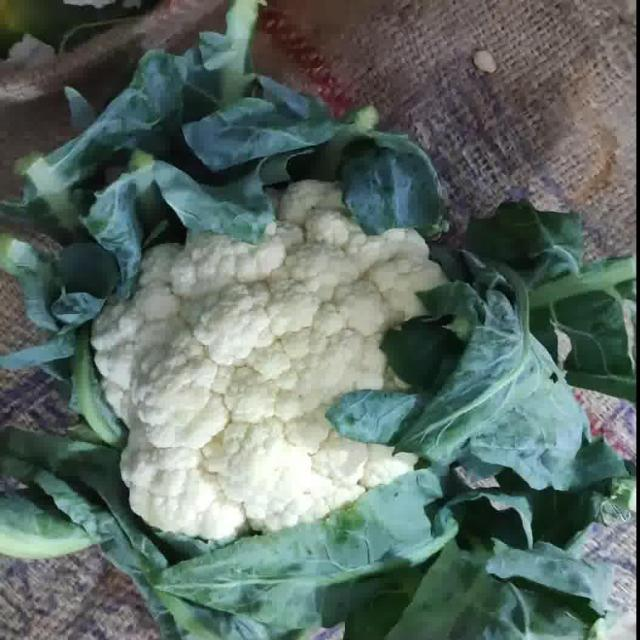Cauliflower: (90, 180, 509, 543)
